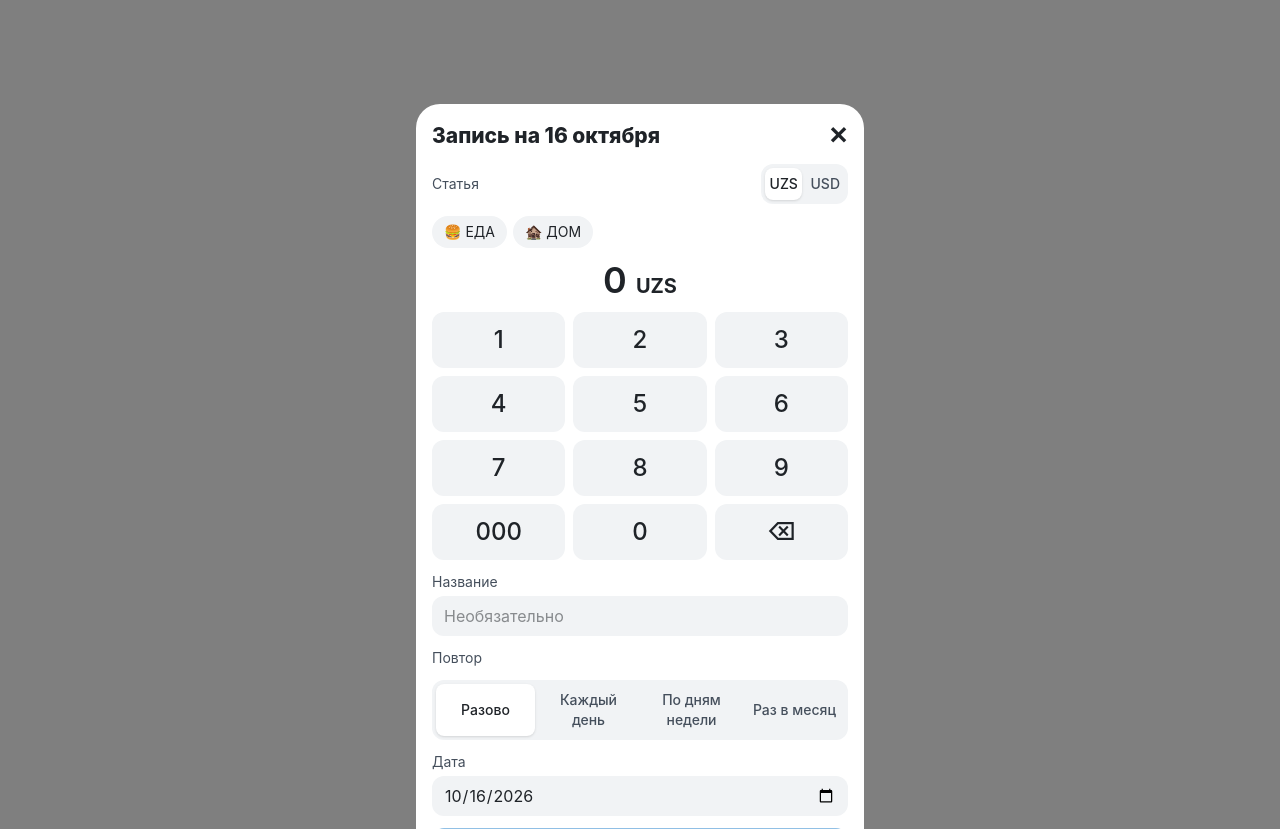
RecordSheet › warns when the records of the article pass its rest
Click the radio button labelled "Каждый день": point(588, 710) [539,684,638,736]
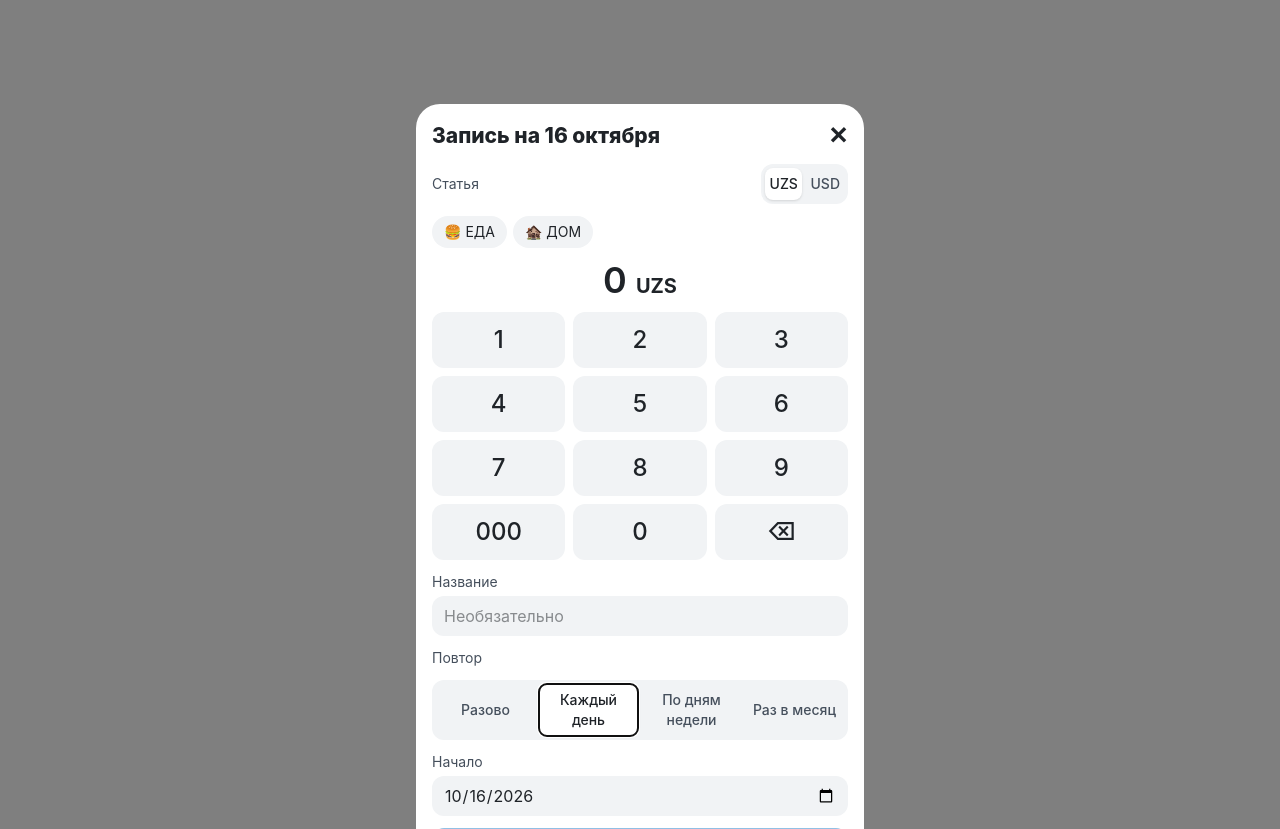
Click the button "🍔 ЕДА": point(470, 232) [432,216,507,248]
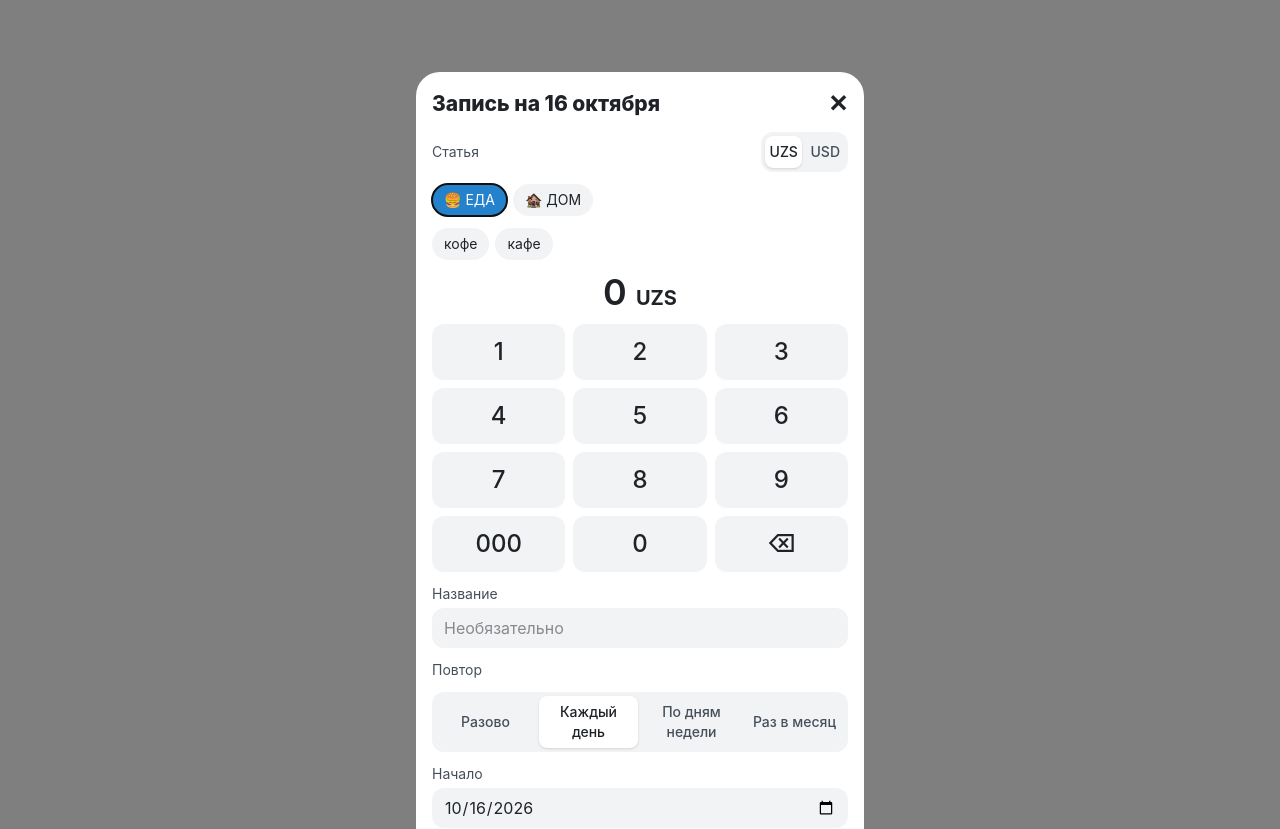
Click the button "кофе": point(461, 244) [432,228,490,260]
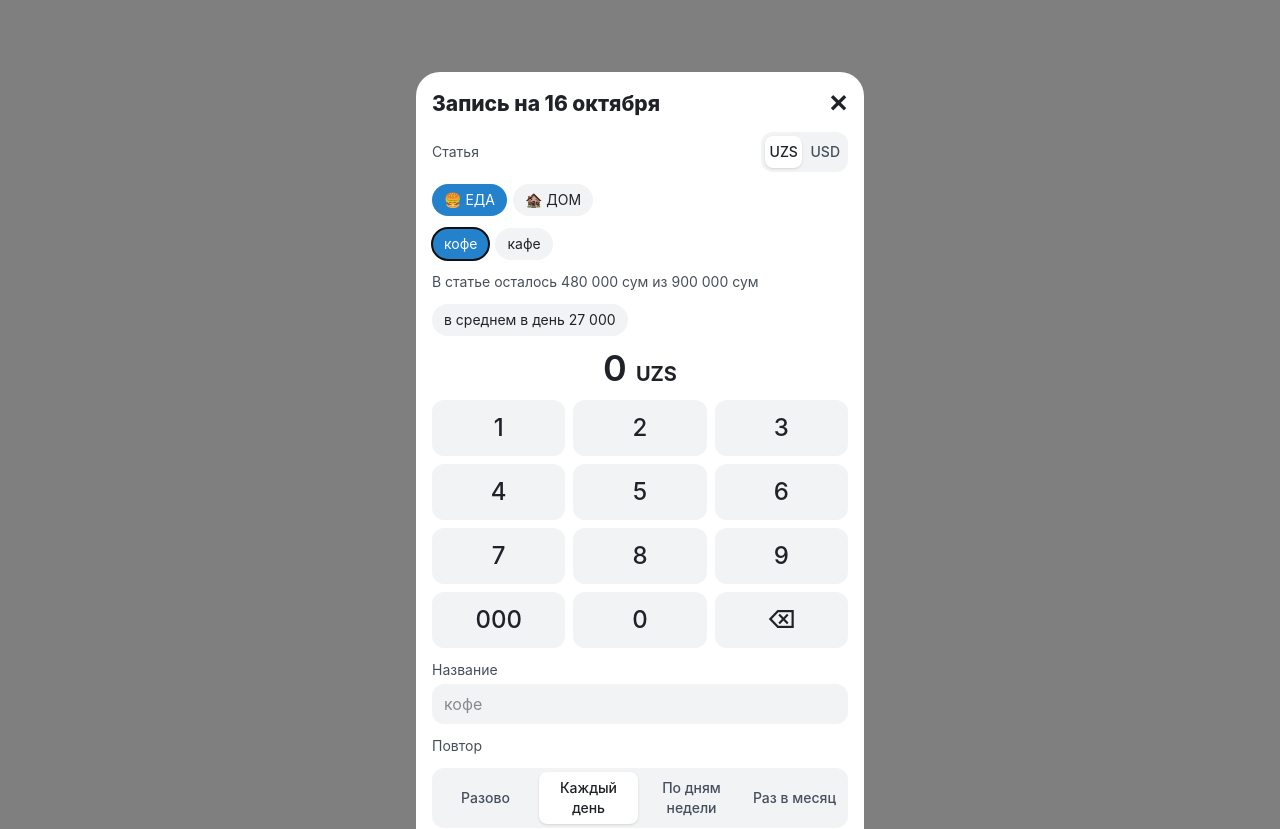
Click the button "в среднем в день 27 000": point(530, 320) [432,304,628,336]
(page scrolled)
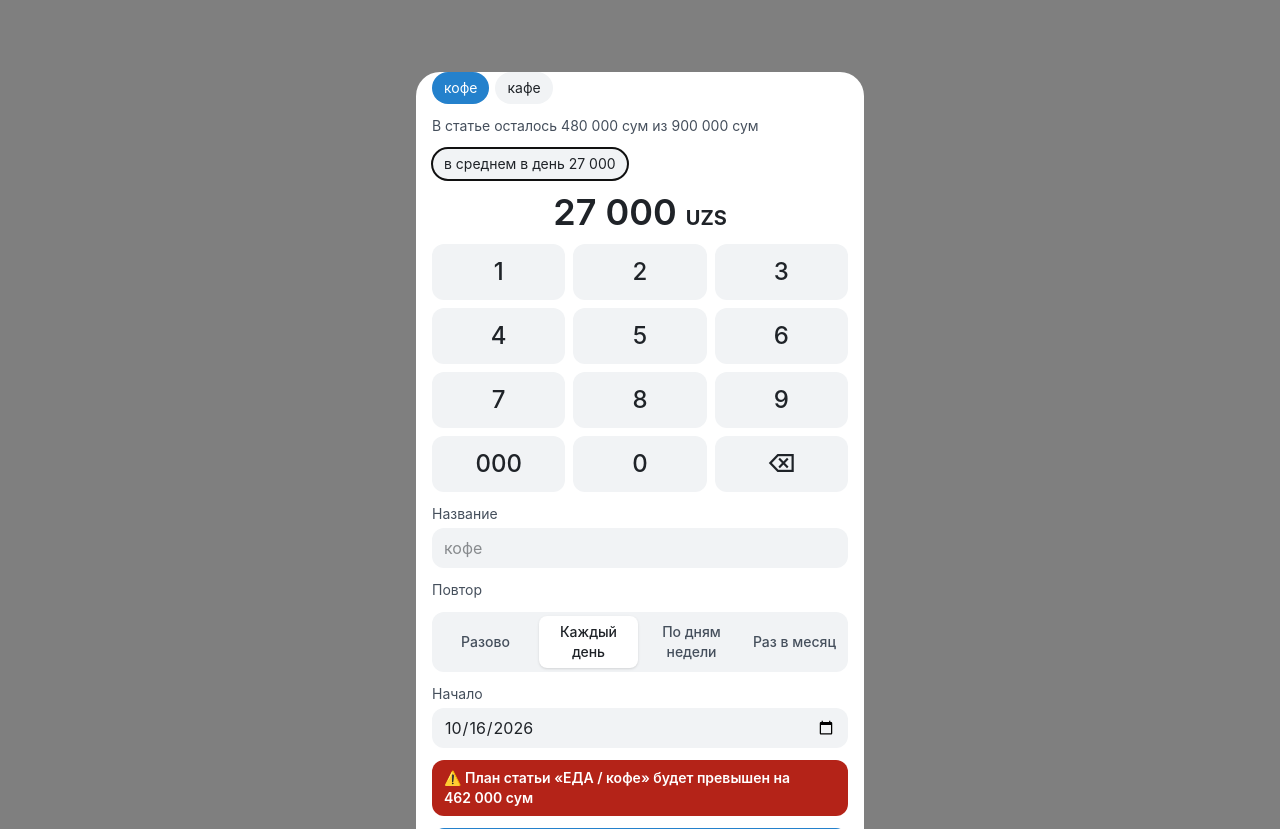
Now the text "⚠️ План статьи «ЕДА / кофе» будет превышен на 462 000 сум" is shown, box [432,760,848,816]
